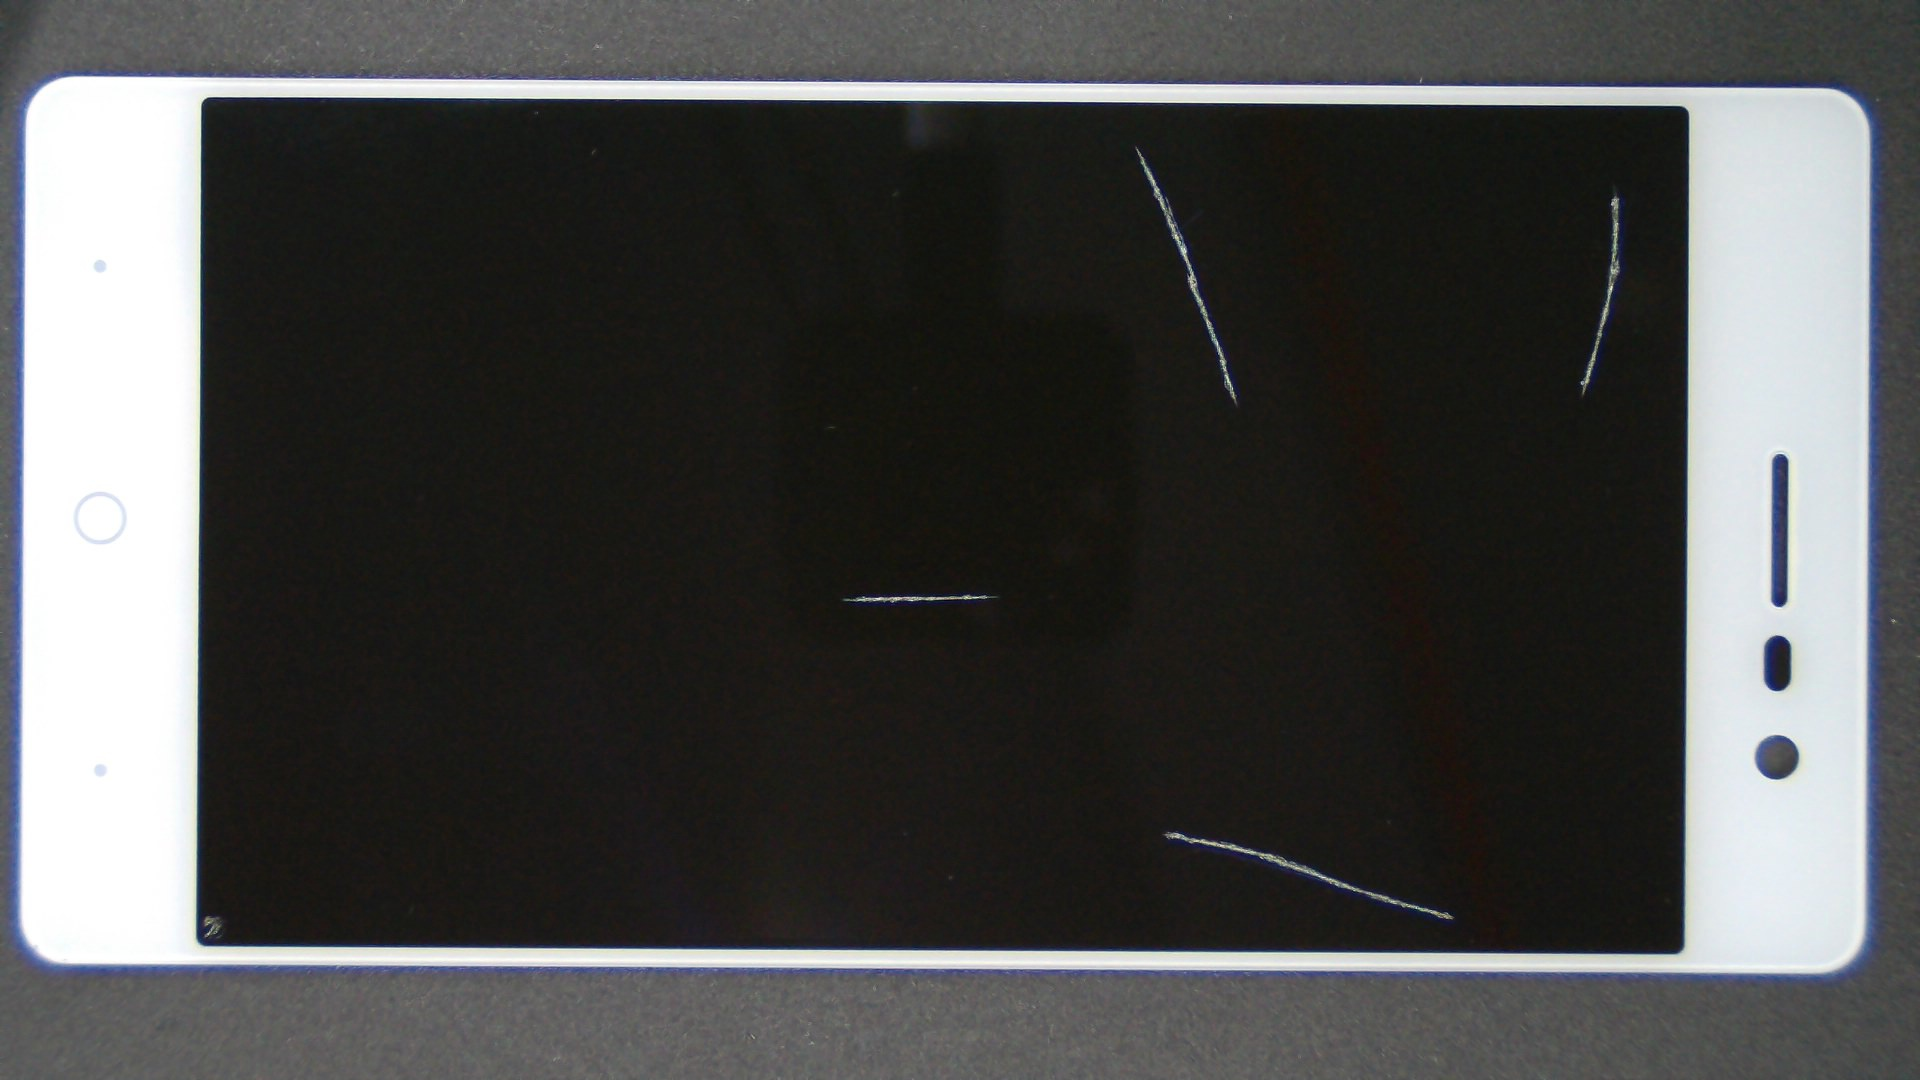oil: (585, 414, 1751, 1080), (484, 297, 1451, 891), (808, 95, 1920, 293), (568, 73, 1704, 218), (105, 456, 316, 1080)
